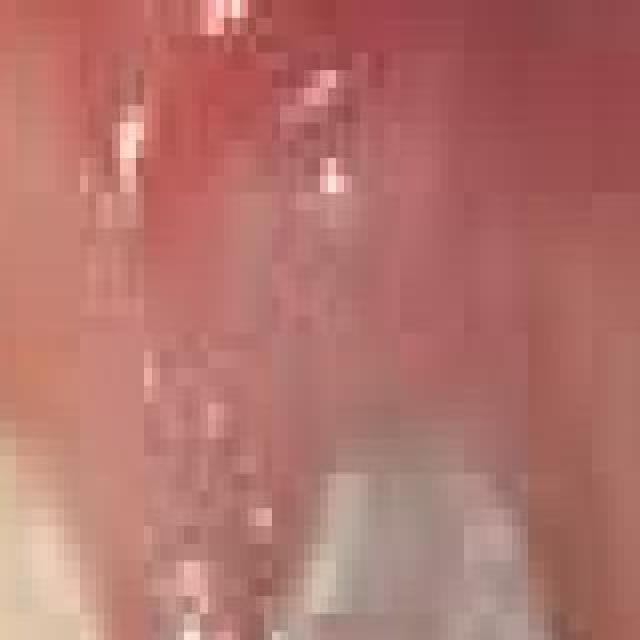cavities: (210, 180, 586, 640)
